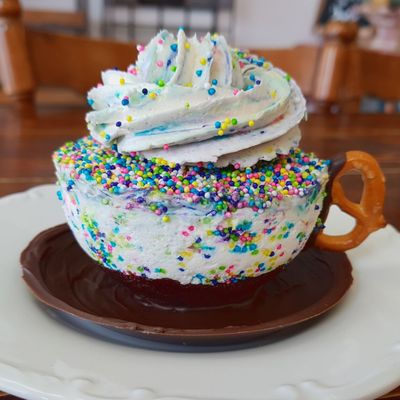pasta: (25, 29, 138, 114)
salad: (37, 135, 338, 325), (312, 150, 388, 253)
sushi: (85, 27, 301, 153)
